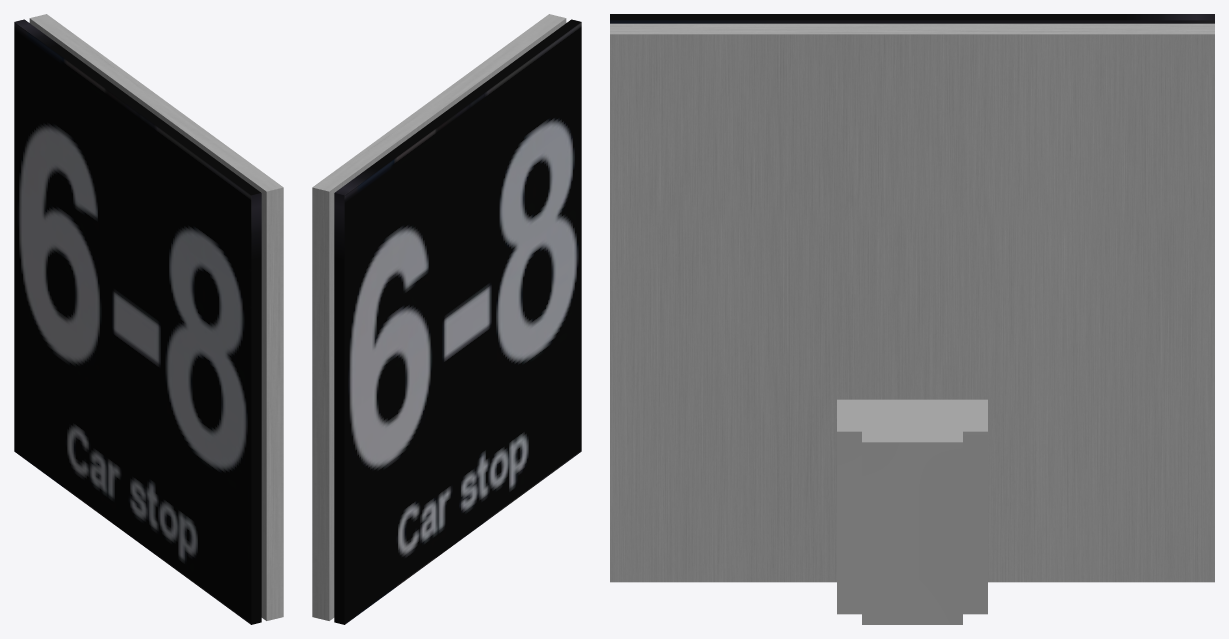
The model's file is 6_8_car_stop.obj.
The picture shows the model from 3 angles, left to right: view 1: azimuth 30°, elevation 25°; view 2: azimuth 150°, elevation 25°; view 3: azimuth 270°, elevation 25°; orthographic projection. The views are drawn at different scales.
Parts seen in each view (by area): view 1: cube; view 2: cube; view 3: cube.
Part boxes in pixels (x1,y1,x2,y2): cube: (14, 14, 283, 624); cube: (312, 14, 581, 624); cube: (610, 14, 1214, 624).
Bounding box in the file's own units: 0.0922 × 0.375 × 0.375.
Materials: 2 (2 with a texture image).
